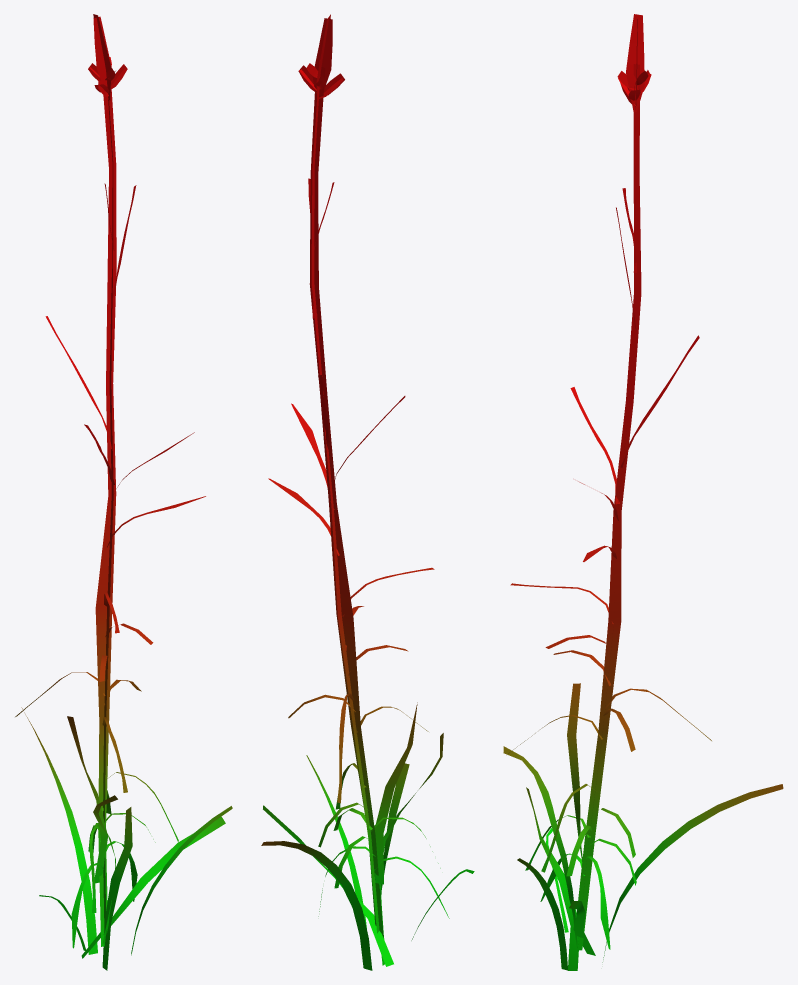
The model's file is Var5_LOD1.fbx.
3 renders of one model, left to right at view 1: azimuth 30°, elevation 25°; view 2: azimuth 150°, elevation 25°; view 3: azimuth 270°, elevation 25°, orthographic. The views are drawn at different scales.
Visible parts, largest first — view 1: _54c5_Var5_LOD1; view 2: _54c5_Var5_LOD1; view 3: _54c5_Var5_LOD1.
Part boxes in pixels (bbox=[...]): _54c5_Var5_LOD1: bbox=[15, 14, 232, 970]; _54c5_Var5_LOD1: bbox=[261, 14, 474, 970]; _54c5_Var5_LOD1: bbox=[503, 14, 783, 970].
Size of the model in its own units: 23.42 by 106 by 27.9.
